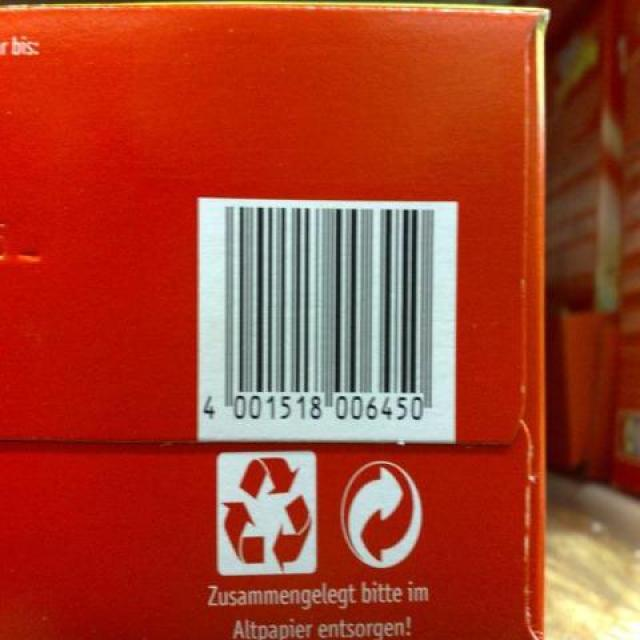Barcode: (198, 196, 458, 444)
